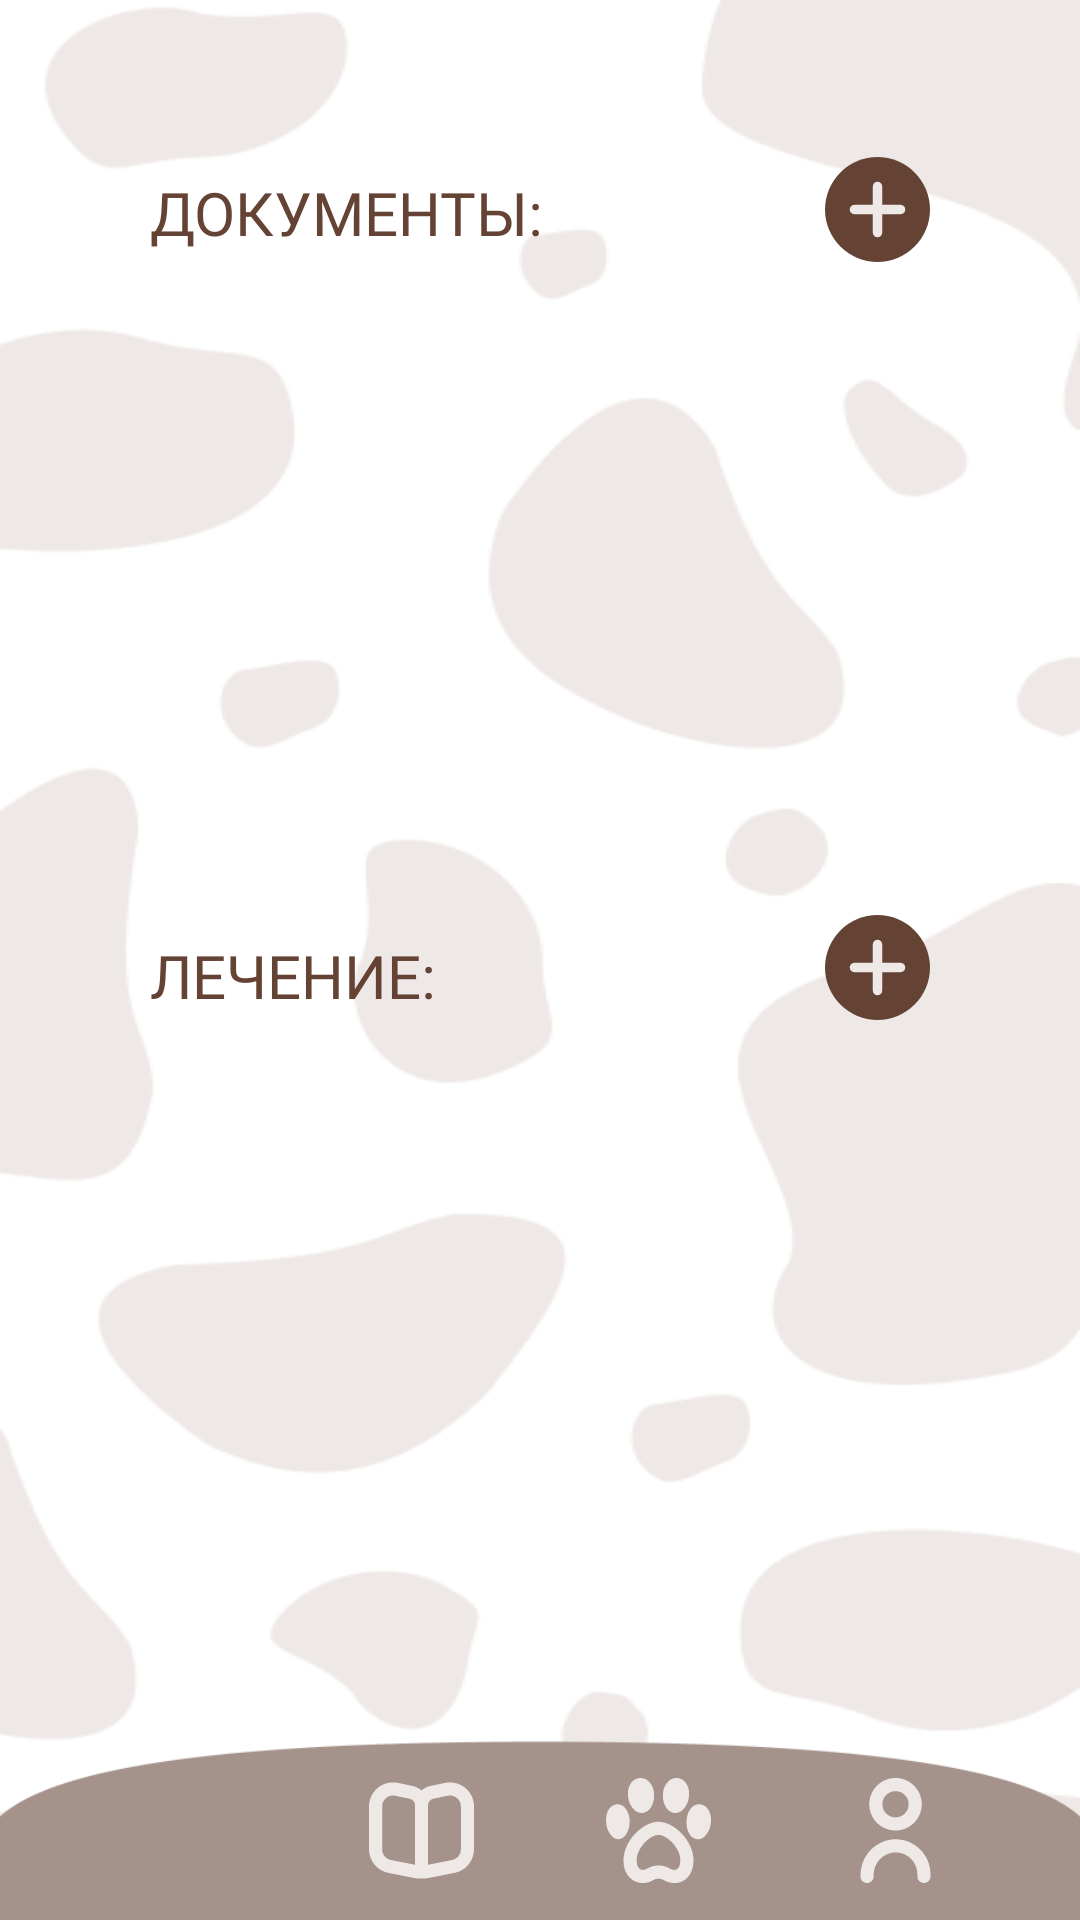

Screen size 1080w x 1920h. Icon name, then its center in pixels as (x,y):
diary: (421,1830)
pets: (658,1830)
profile: (895,1830)
